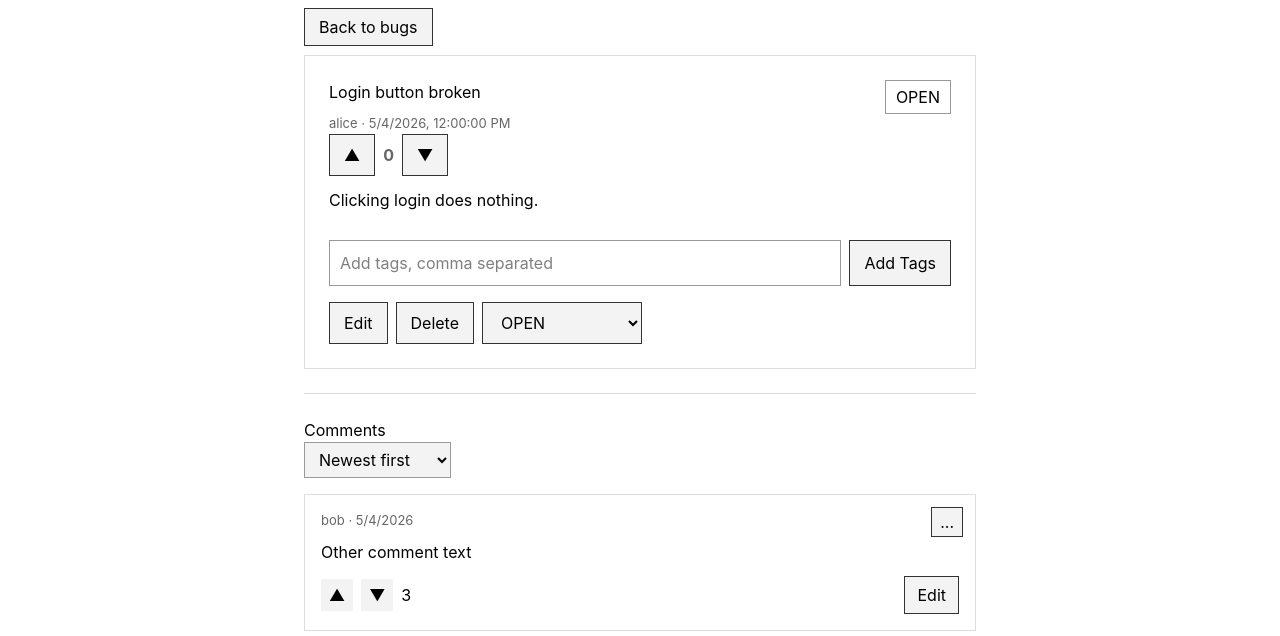
Test: comments › MODERATOR can edit and delete any comment
Expected: the text "Other comment text" is shown, [321, 542, 471, 562]
Click the button "...": (947, 522) [931, 507, 963, 537]
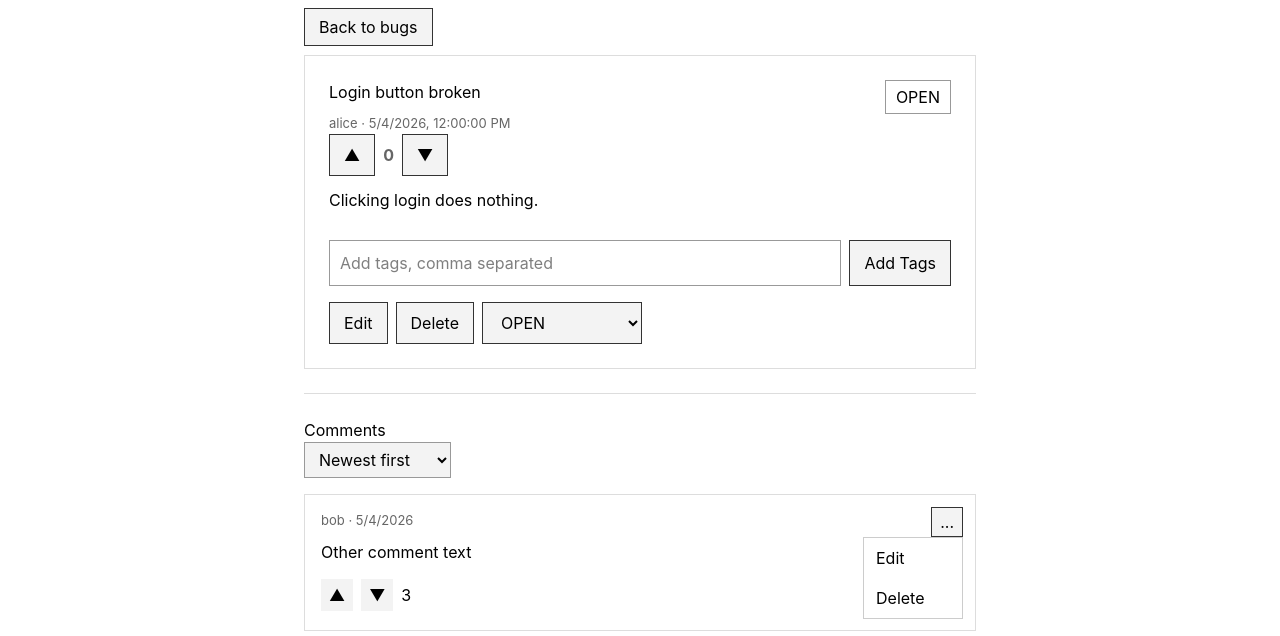
Expected: the button "Edit" in the row of "Other comment text" is shown
Expected: the 2nd button "Delete" is shown, [864, 578, 962, 618]
Click the button "Edit" in the row of "Other comment text": (913, 558) [864, 538, 962, 578]
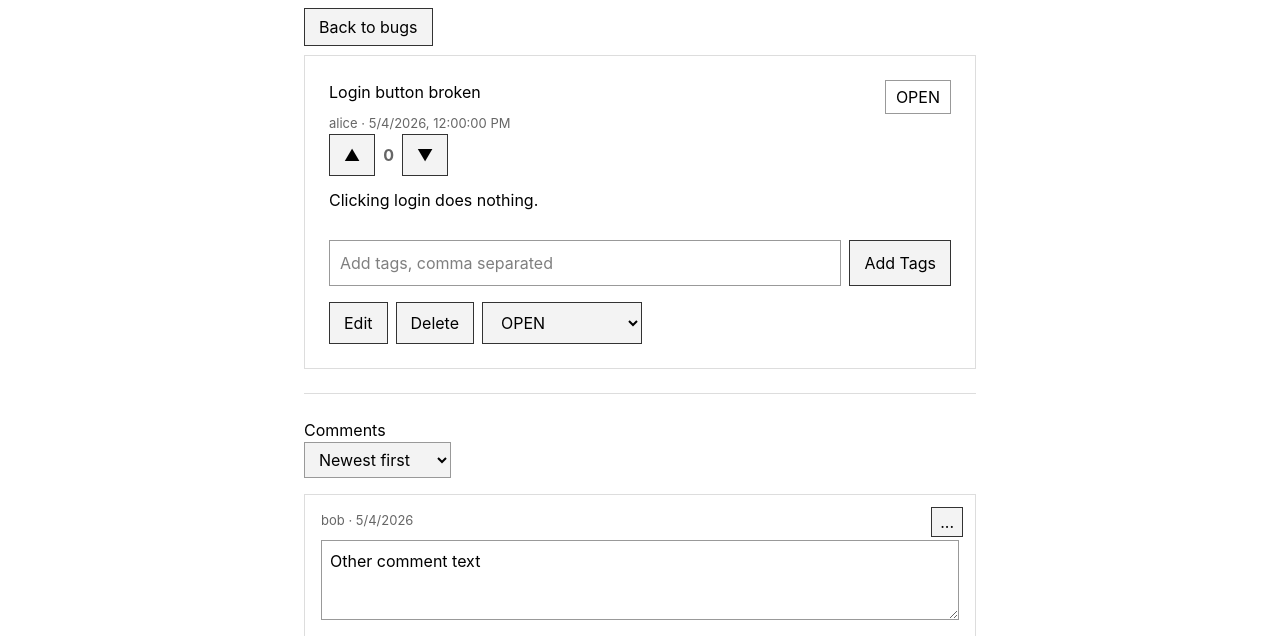
Replace the text in the text box named "Edit comment text" with "Mod edited": (640, 580) [321, 540, 959, 620]
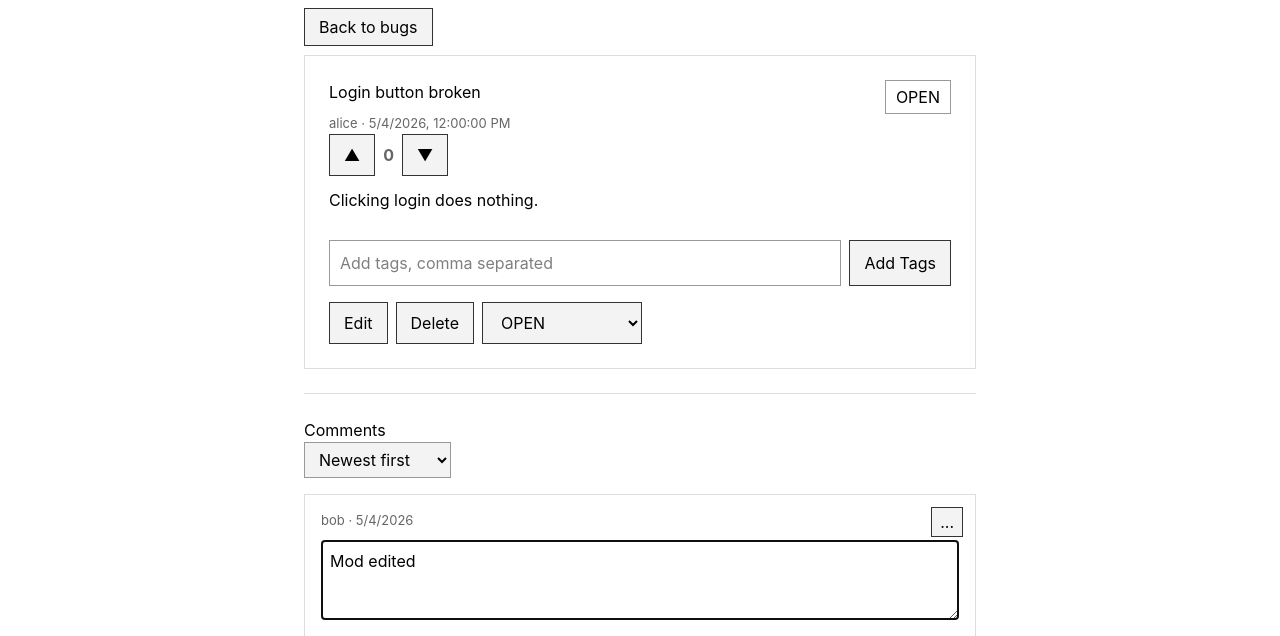
Scroll
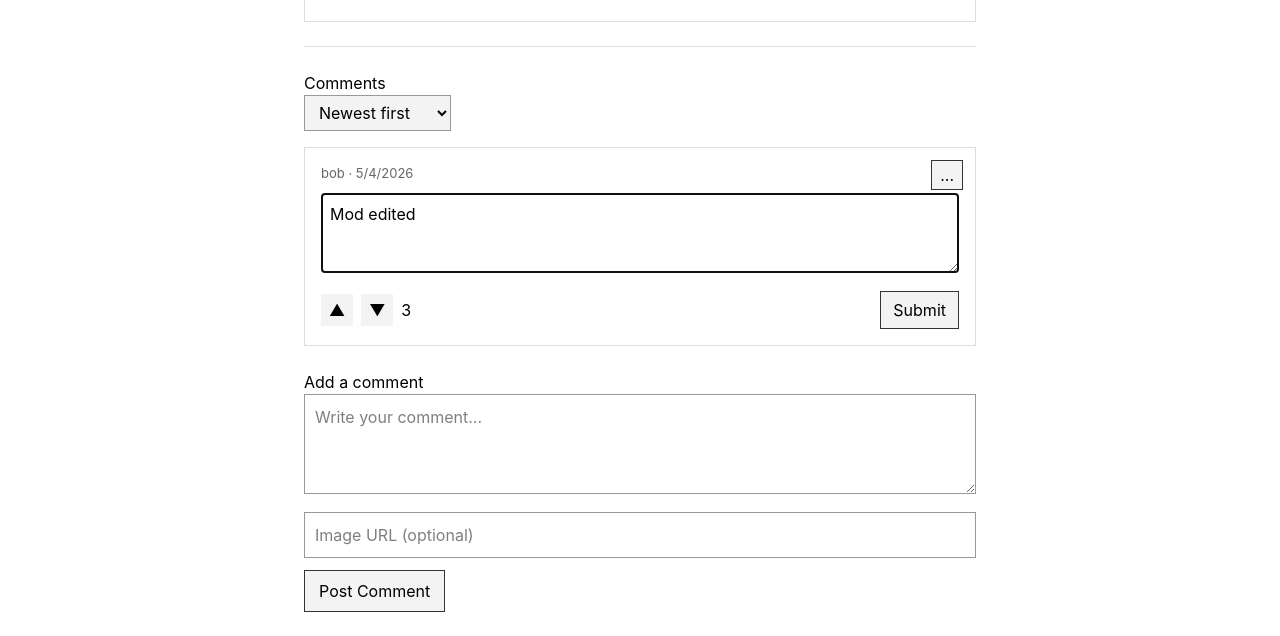
Click the button "Submit": (920, 310) [880, 291, 959, 329]
(page scrolled)
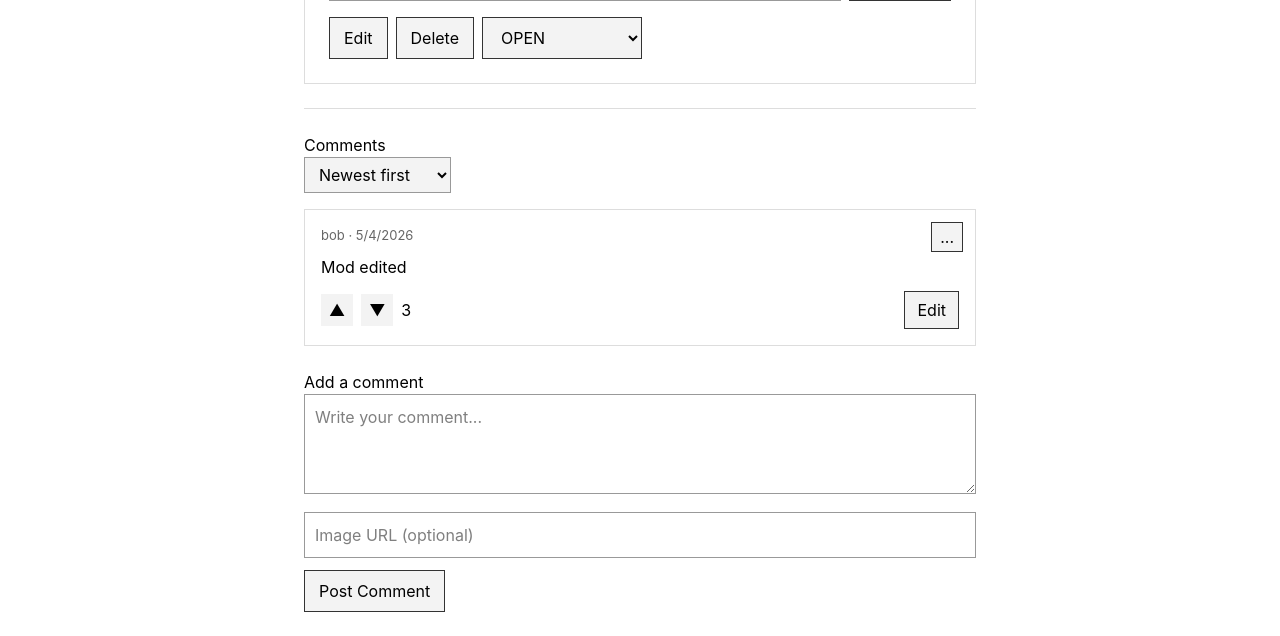
Expected: the text "Mod edited" is shown, [321, 257, 406, 277]
